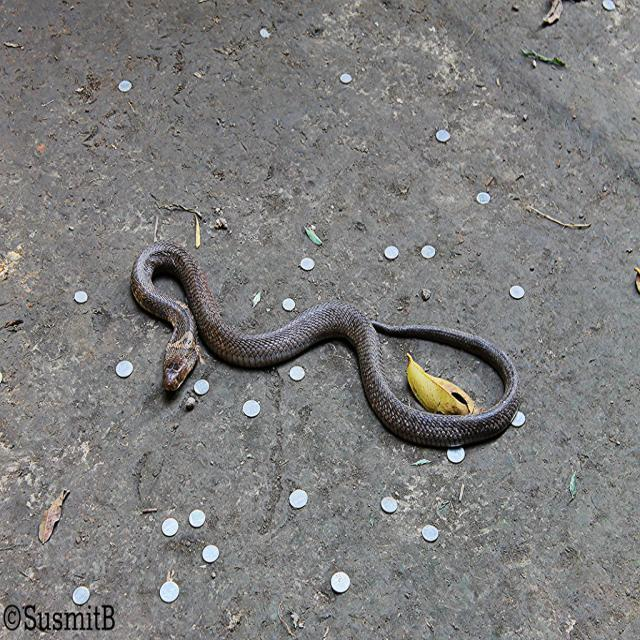Snake: (127, 235, 524, 452)
